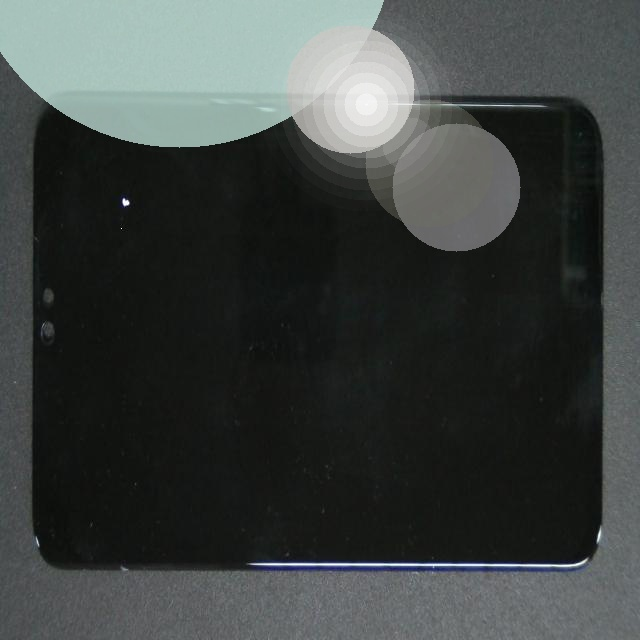stain: (54, 100, 162, 302)
